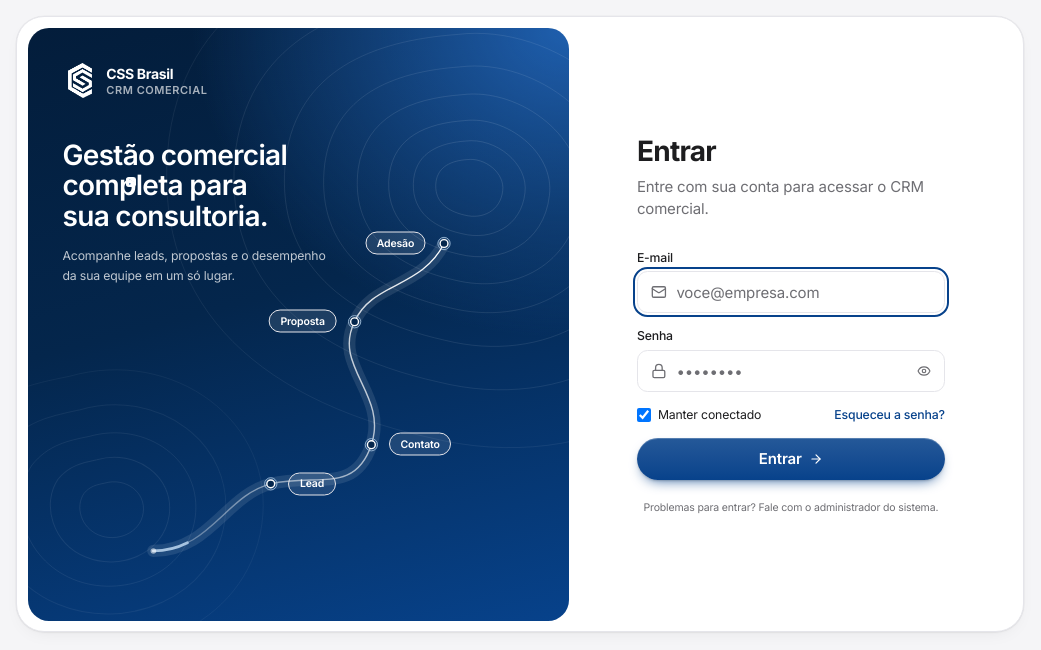
Test case: LoginPage › não vai ao servidor sem e-mail ou sem senha: diz o que falta e leva o cursor para o campo
The image size is (1041, 650).
Click the button "Entrar" at (791, 458), box [637,438,945,480]
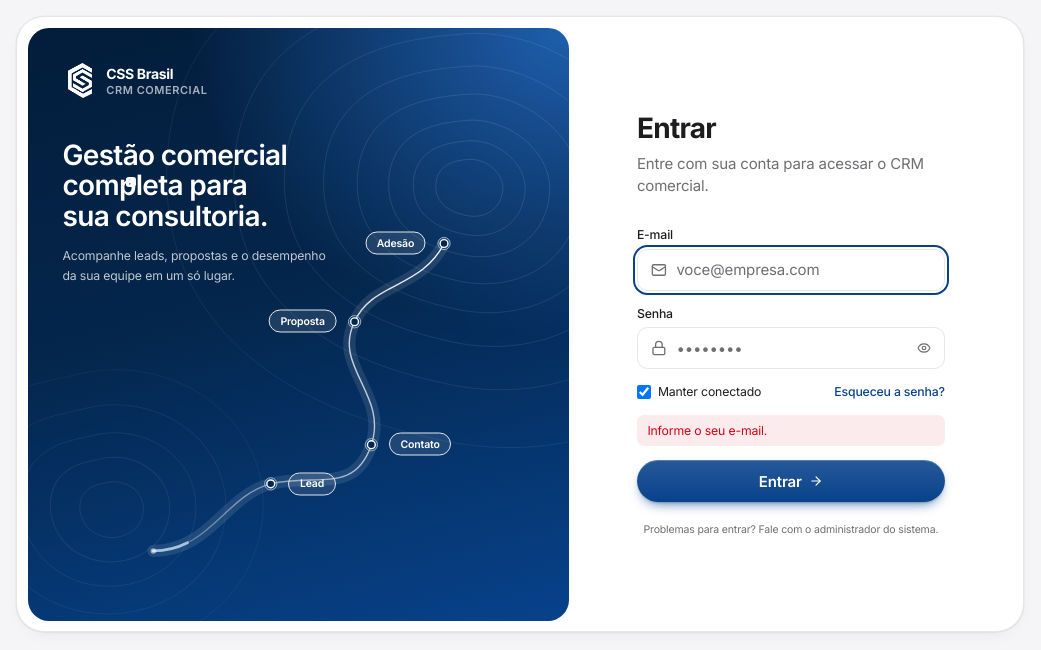
Expected: the message reads "Informe o seu e-mail.", [647,423,767,438]
Type "ana@empresa.com" into the field labelled "E-mail" at (791, 270), box [637,248,945,290]
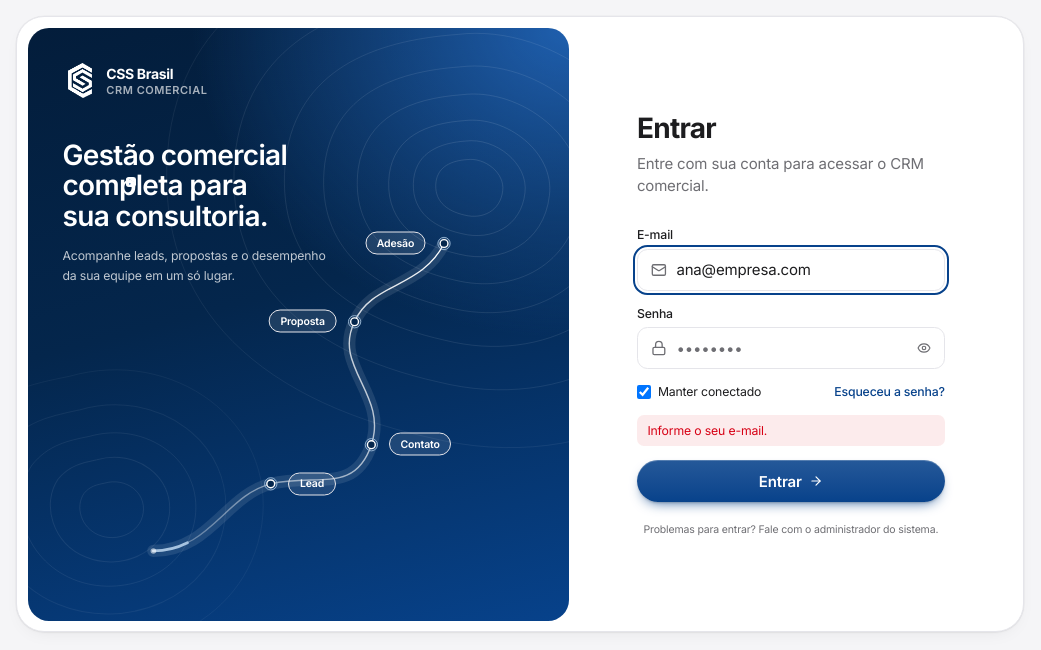
Click the button "Entrar" at (791, 481), box [637,460,945,502]
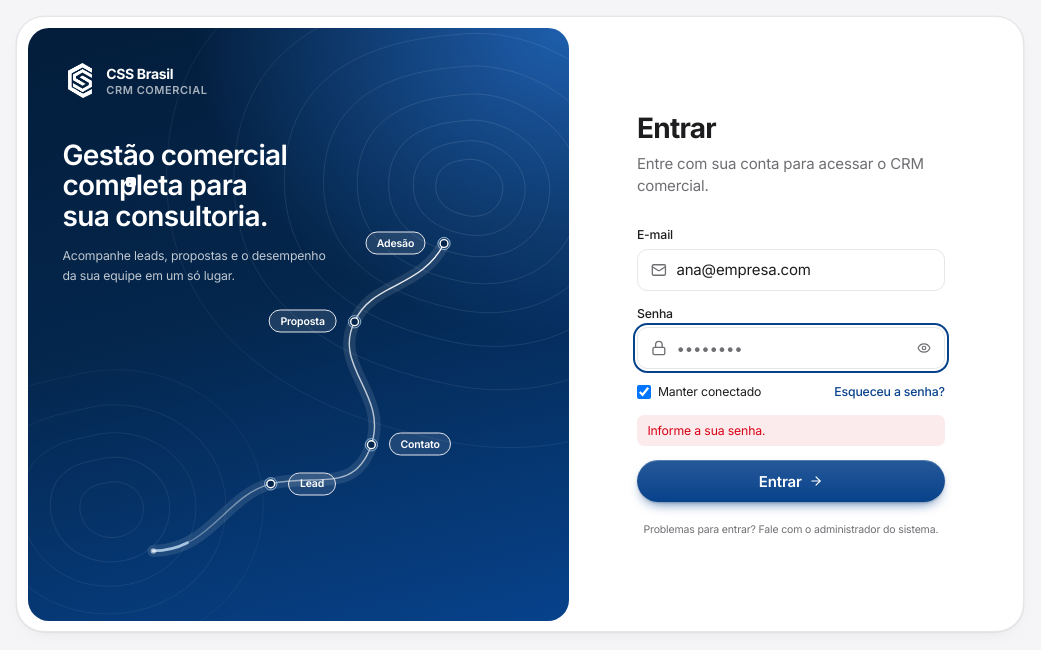
Expected: the message reads "Informe a sua senha.", [647,423,765,438]
